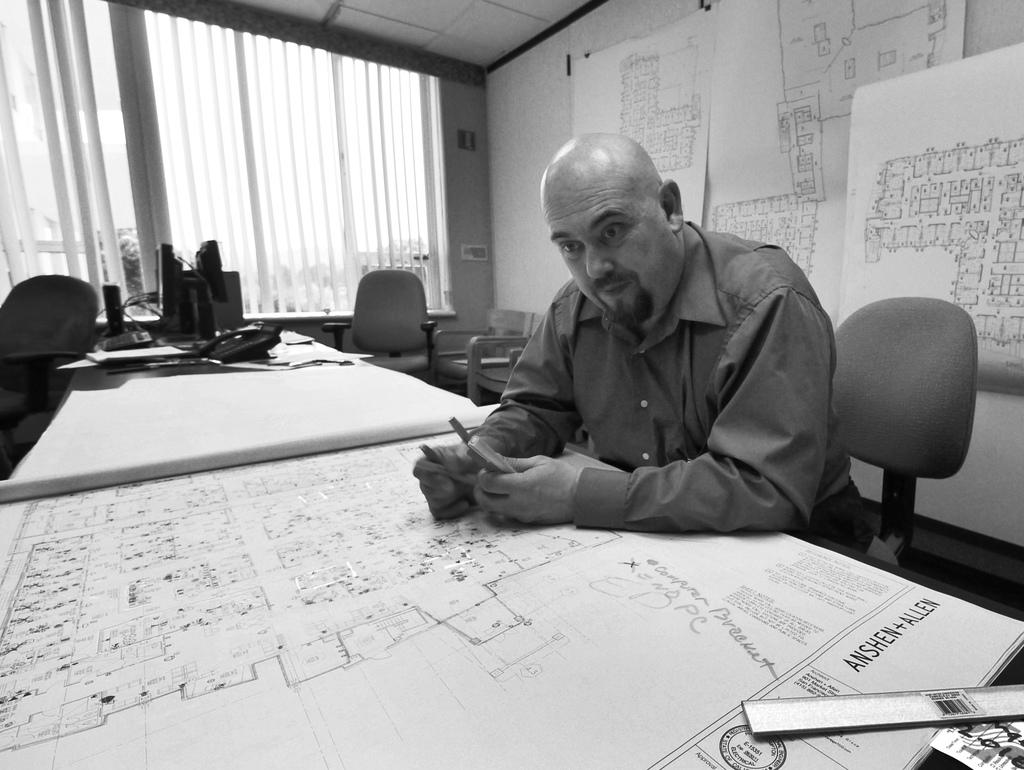Chair: (803, 294, 979, 568), (0, 273, 99, 477), (321, 268, 436, 383)
